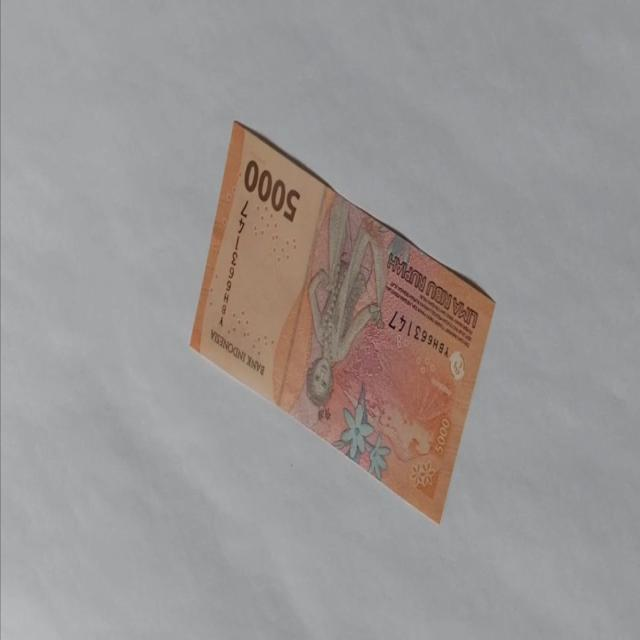lima ribu rupiah: (189, 119, 497, 526)
